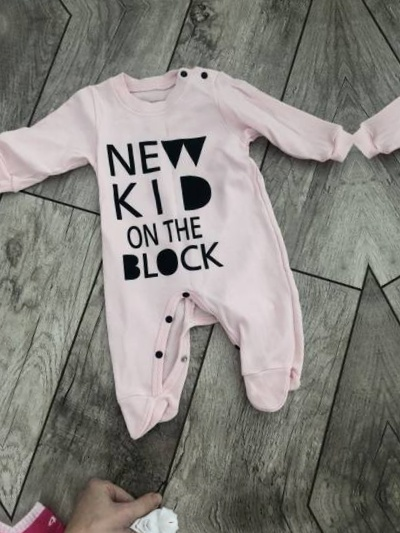Body: (0, 34, 387, 457), (341, 0, 400, 411)
